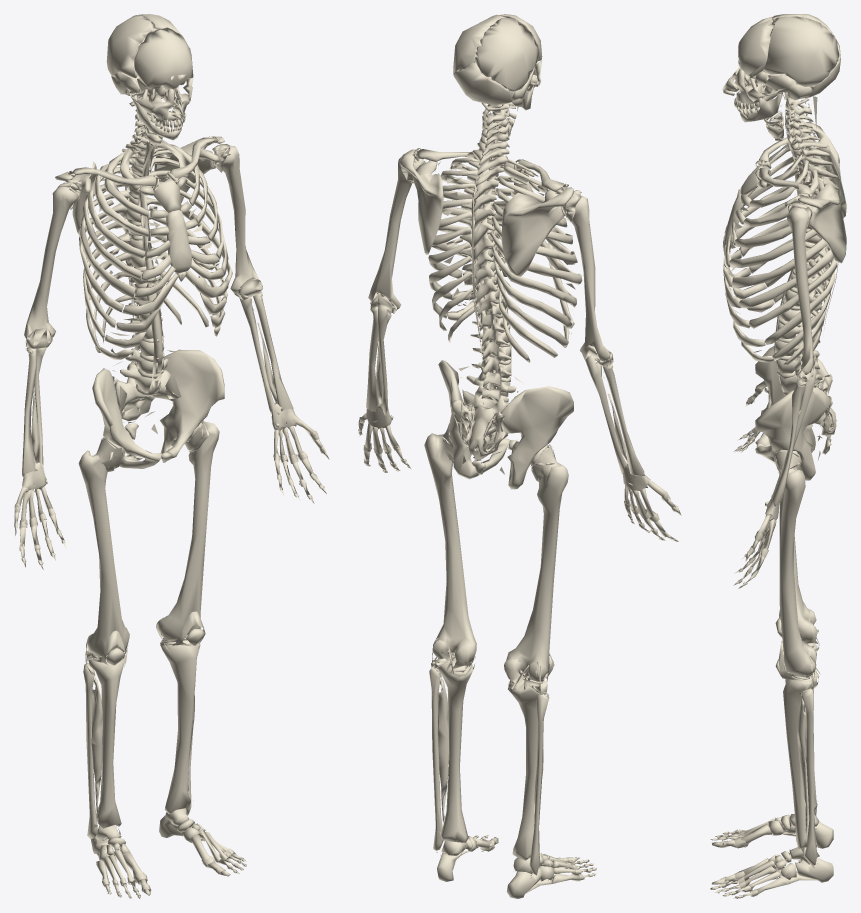
Rendered from bones.glb.
3 views of the same model, side by side, from view 1: azimuth 30°, elevation 25°; view 2: azimuth 150°, elevation 25°; view 3: azimuth 270°, elevation 25° (orthographic). The views are drawn at different scales.
Visible parts, largest first — view 1: bones; view 2: bones; view 3: bones.
Boxes of the visible parts, left/top/right/bottom form: bones: left=14, top=14, right=329, bottom=898; bones: left=358, top=14, right=681, bottom=898; bones: left=710, top=14, right=846, bottom=898.
Size of the model in its own units: 0.6651 by 1.7 by 0.2472.
